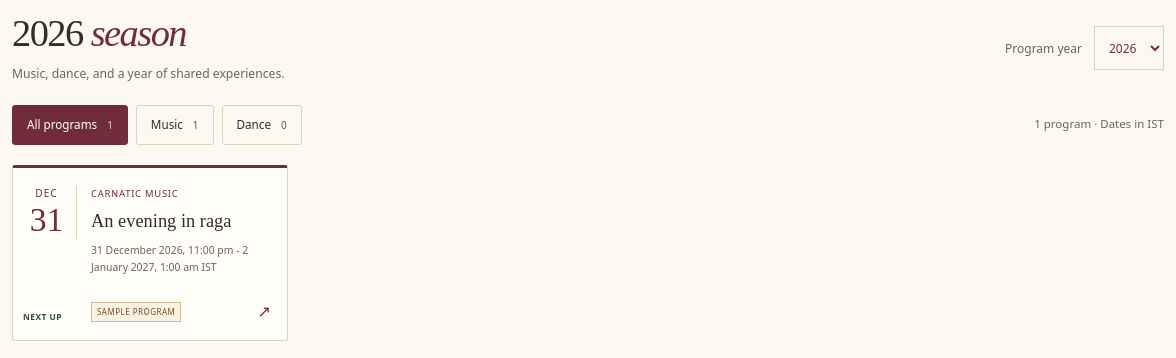
Test: event season overview › shows a cross-year program once in each occupied season with its full range
This screenshot has width=1176, height=358.
Expected: the heading "2026 season" is shown, [12,12,186,54]
Expected: the list shows "31 December 2026, 11:00 pm - 2 January 2027, 1:00 am IST", [12,165,288,341]
Select "2027" in the dropdown labelled "Program year": coordinates (1129, 48) [1094,26,1164,70]
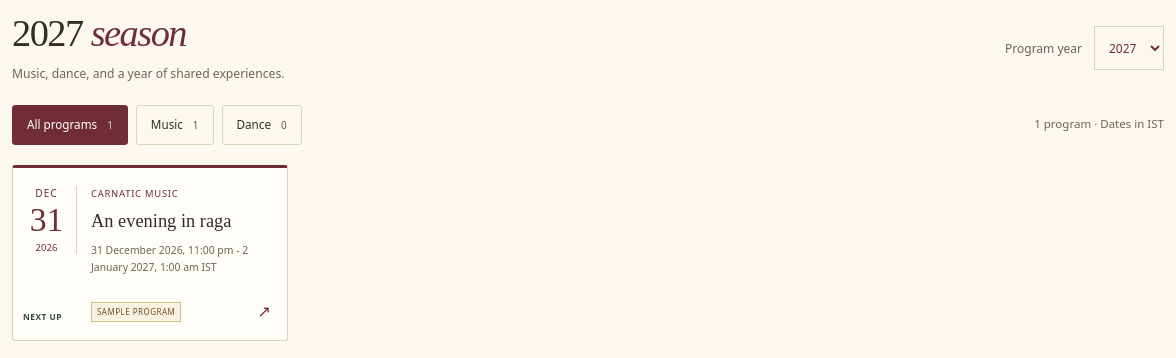
Expected: the heading "2027 season" is shown, [12,12,186,54]
Expected: the element showing "Dec 31 2026" is shown, [29,186,77,254]
